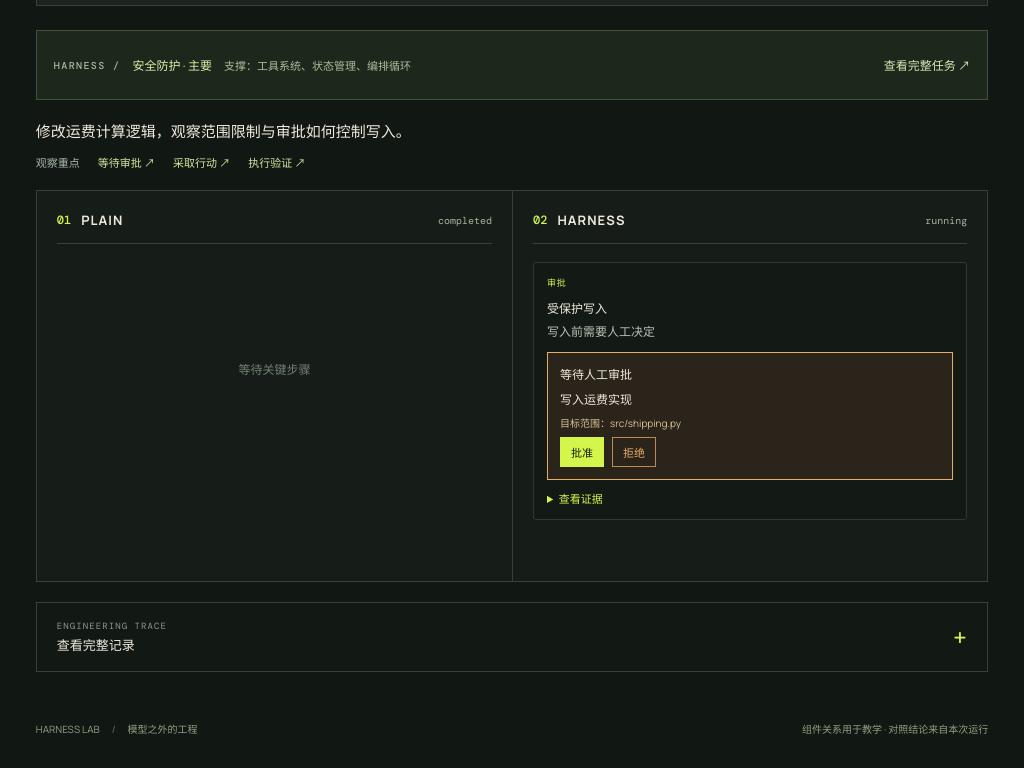
it: architecture explorer › recovers pending approval and submits 拒绝 while keeping configuration locked
The width and height of the screenshot is (1024, 768).
(page scrolled)
Expected: the button "查看完整任务 ↗" is enabled, [884,48,970,82]
Click the button "拒绝": (634, 452) [612,437,656,467]
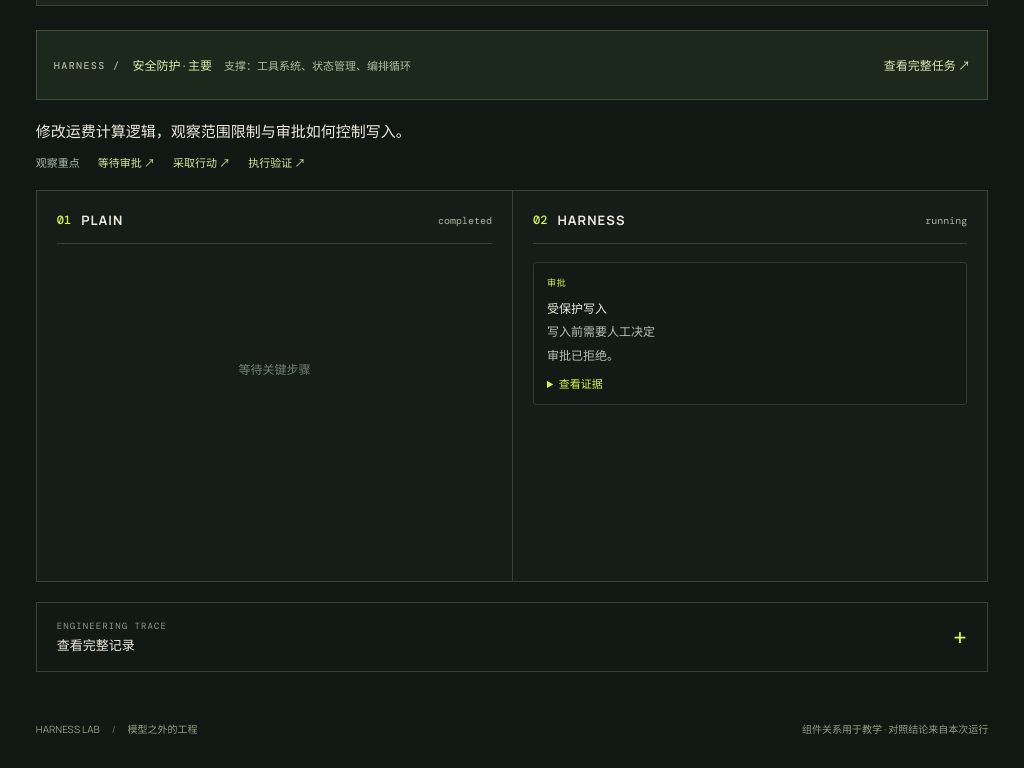
Now the text "审批已拒绝。" is shown, box [547,348,619,364]
